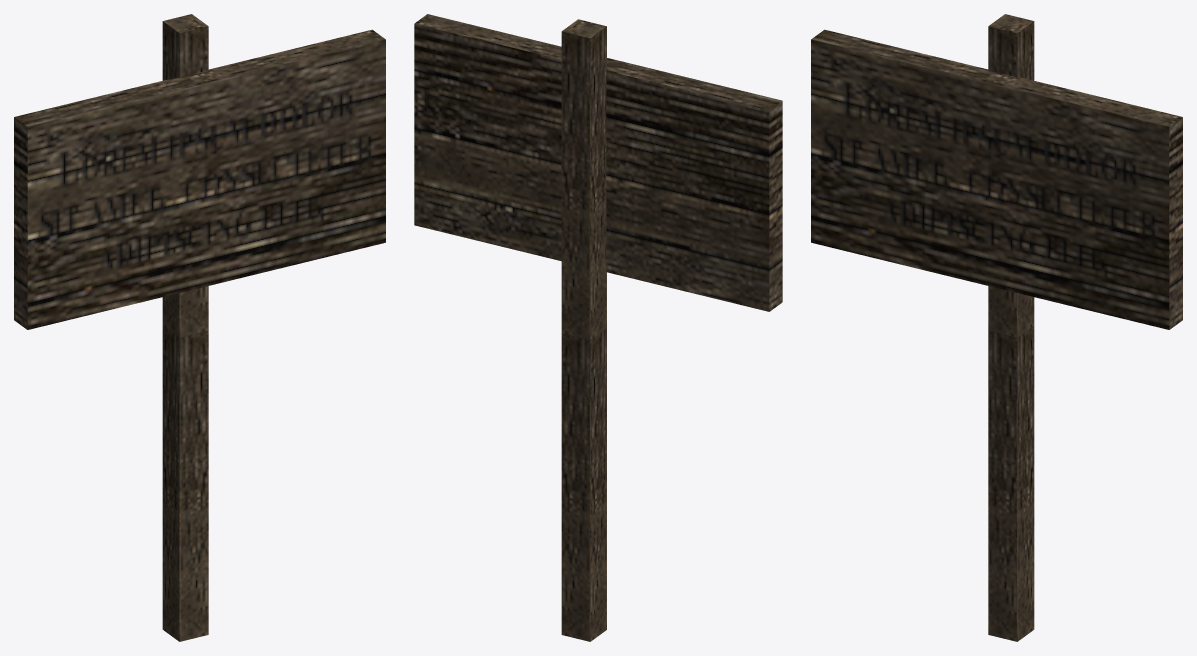
The model's file is Sign.fbx.
The picture shows the model from 3 angles, left to right: view 1: azimuth 30°, elevation 25°; view 2: azimuth 150°, elevation 25°; view 3: azimuth 330°, elevation 25°; orthographic projection.
Parts seen in each view (by area): view 1: Sign; view 2: Sign; view 3: Sign.
Part boxes in pixels (left/top/right/bottom): Sign: left=14, top=14, right=385, bottom=641; Sign: left=414, top=14, right=782, bottom=641; Sign: left=811, top=14, right=1182, bottom=641.
Bounding box in the file's own units: 0.7024 × 1.14 × 0.0999.
